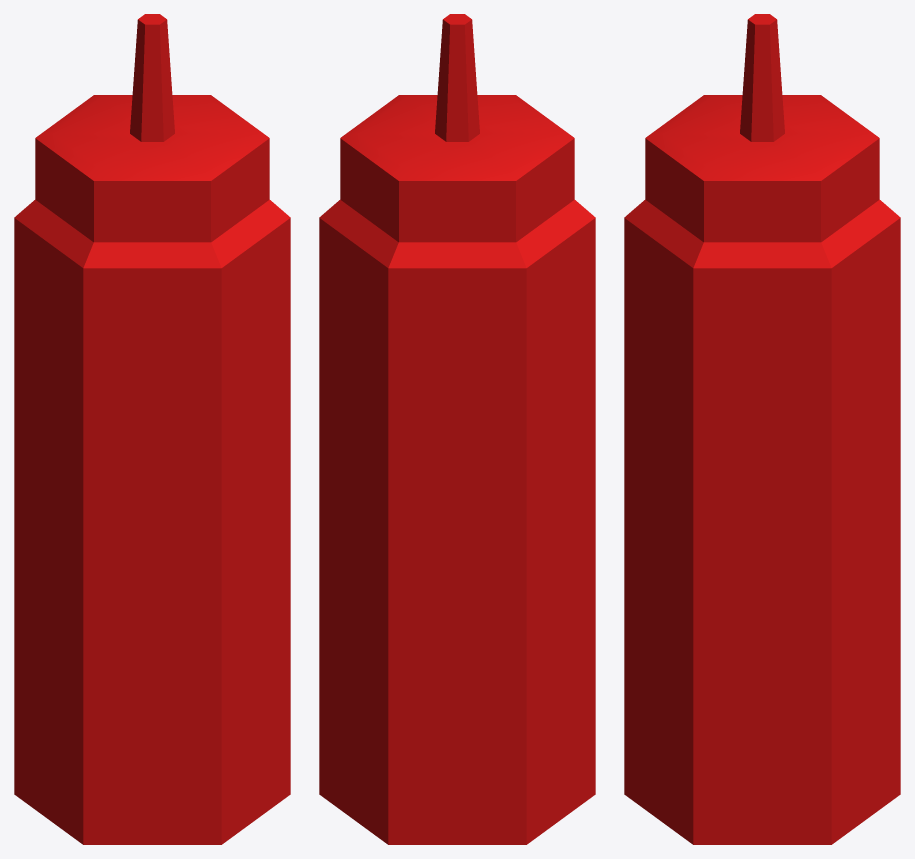
File: ketchup_bote.fbx
3 views of the same model, side by side, from view 1: azimuth 30°, elevation 25°; view 2: azimuth 150°, elevation 25°; view 3: azimuth 270°, elevation 25° (orthographic).
Parts seen in each view (by area): view 1: ketchup_bote; view 2: ketchup_bote; view 3: ketchup_bote.
Part boxes in pixels (x1,y1,x2,y2): ketchup_bote: [14, 14, 290, 844]; ketchup_bote: [319, 14, 595, 844]; ketchup_bote: [624, 14, 900, 844].
Size of the model in its own units: 4.72 by 16.86 by 5.45.
